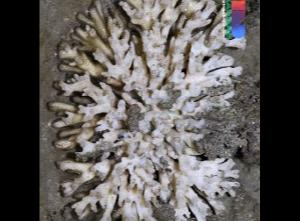bleached_corals: (48, 0, 242, 221)
